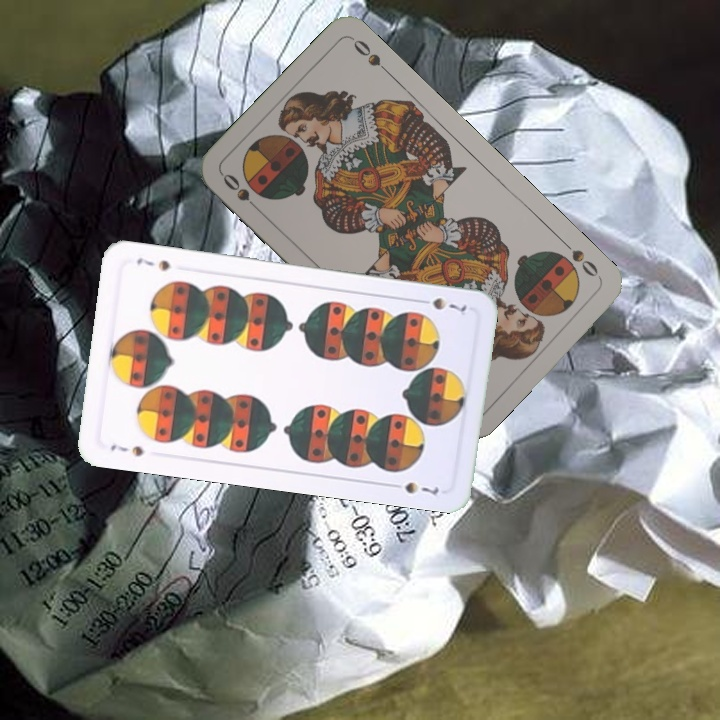S7: (413, 293, 471, 318), (106, 440, 147, 459)
SO: (218, 169, 265, 216), (557, 236, 604, 282)
